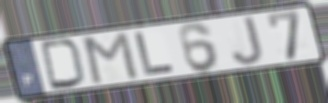6: (177, 20, 221, 75)
7: (264, 8, 304, 63)
D: (38, 38, 88, 91)
J: (230, 14, 265, 67)
L: (132, 30, 177, 78)
M: (81, 29, 141, 86)
